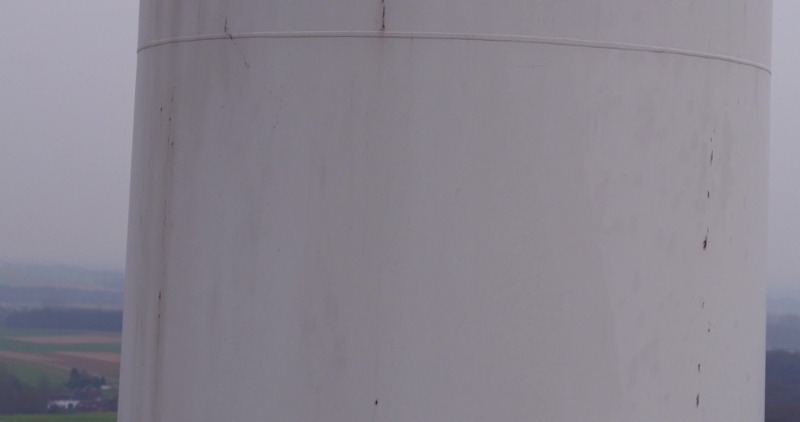weldseam: (126, 27, 778, 83)
